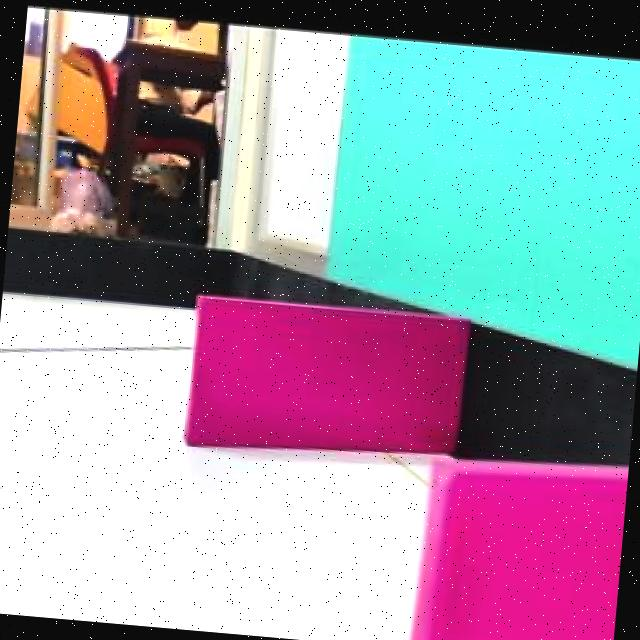xparking: (191, 301, 434, 461), (423, 467, 627, 640)
